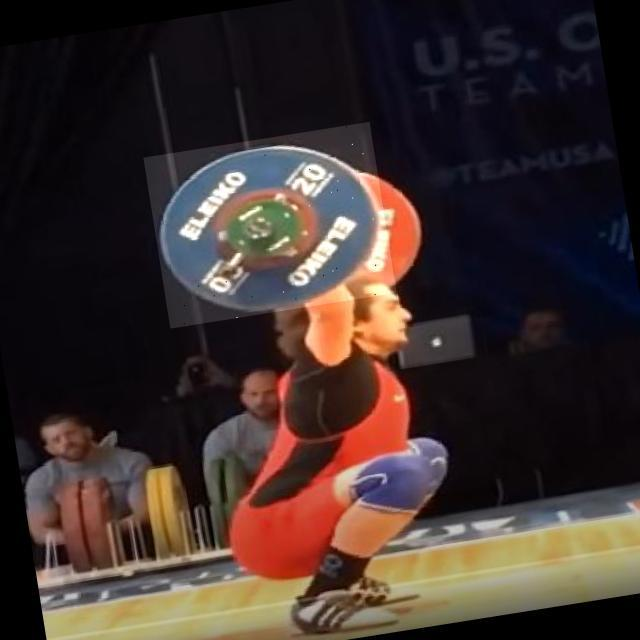barbell: (145, 123, 398, 330)
